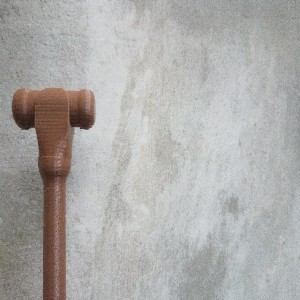palu: (12, 87, 96, 300)
